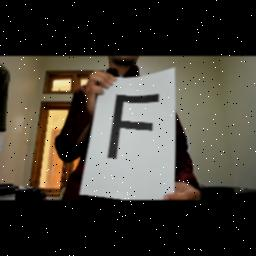f: (106, 88, 160, 166)
